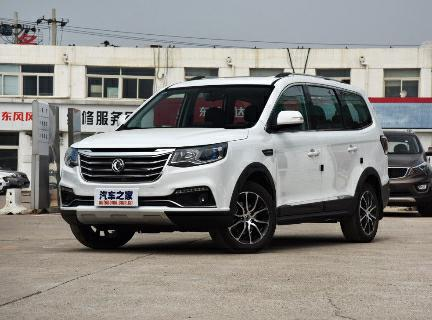东风风行-景逸X6: (49, 71, 395, 250)
